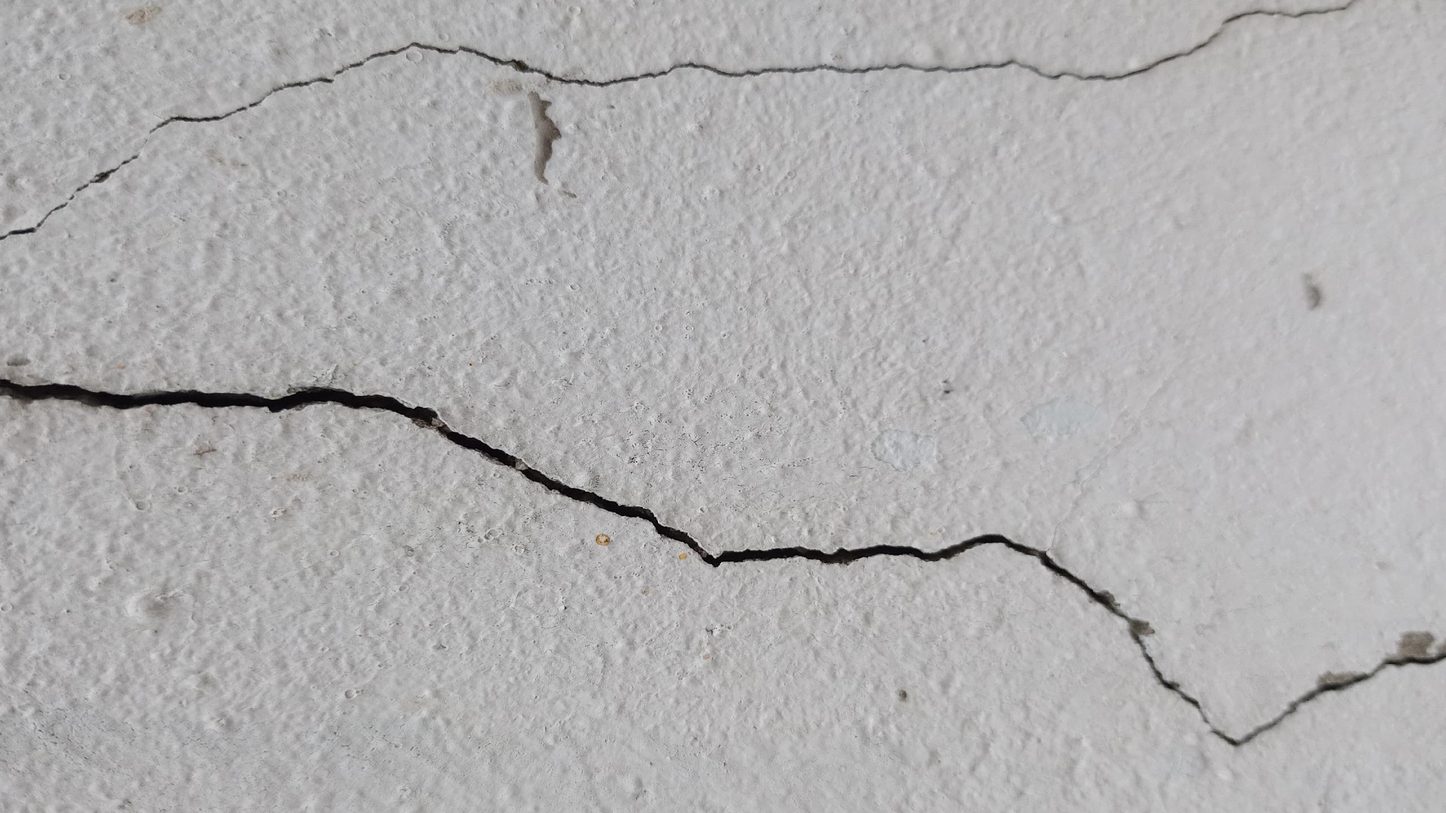crack: (1, 377, 1445, 748), (151, 5, 1351, 136), (1, 150, 142, 245)
